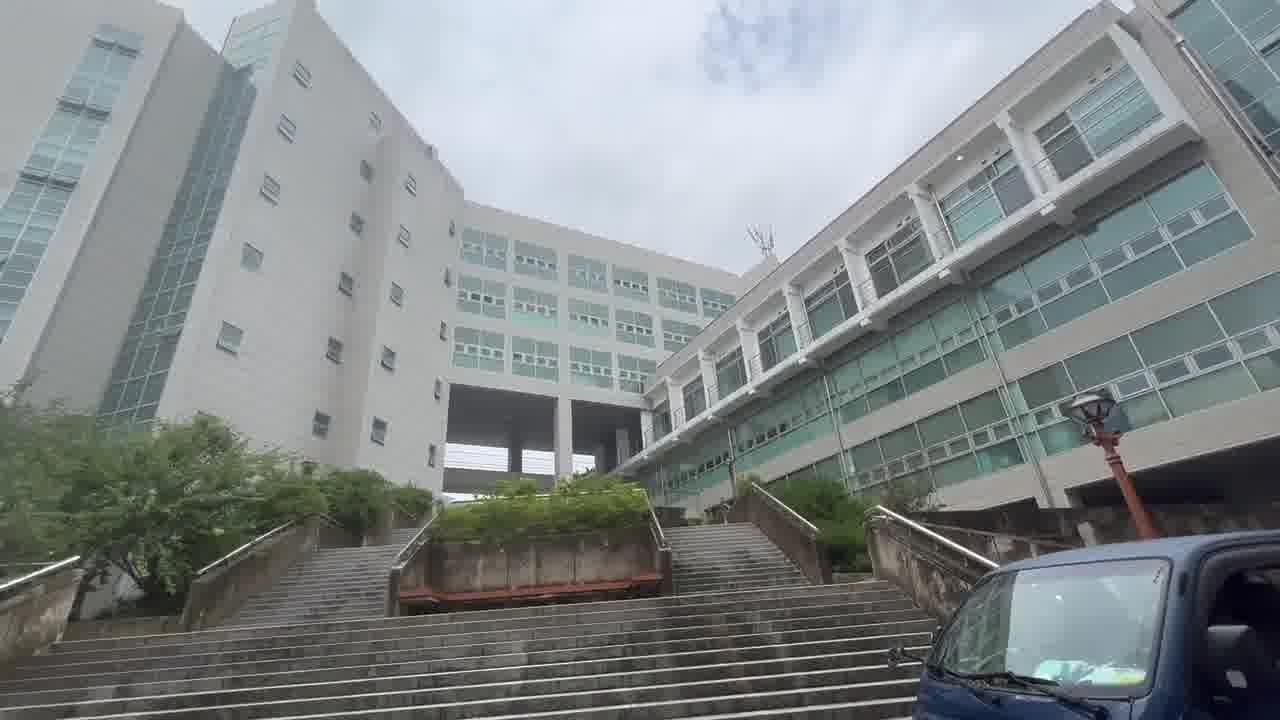low: (264, 93, 1013, 482)
